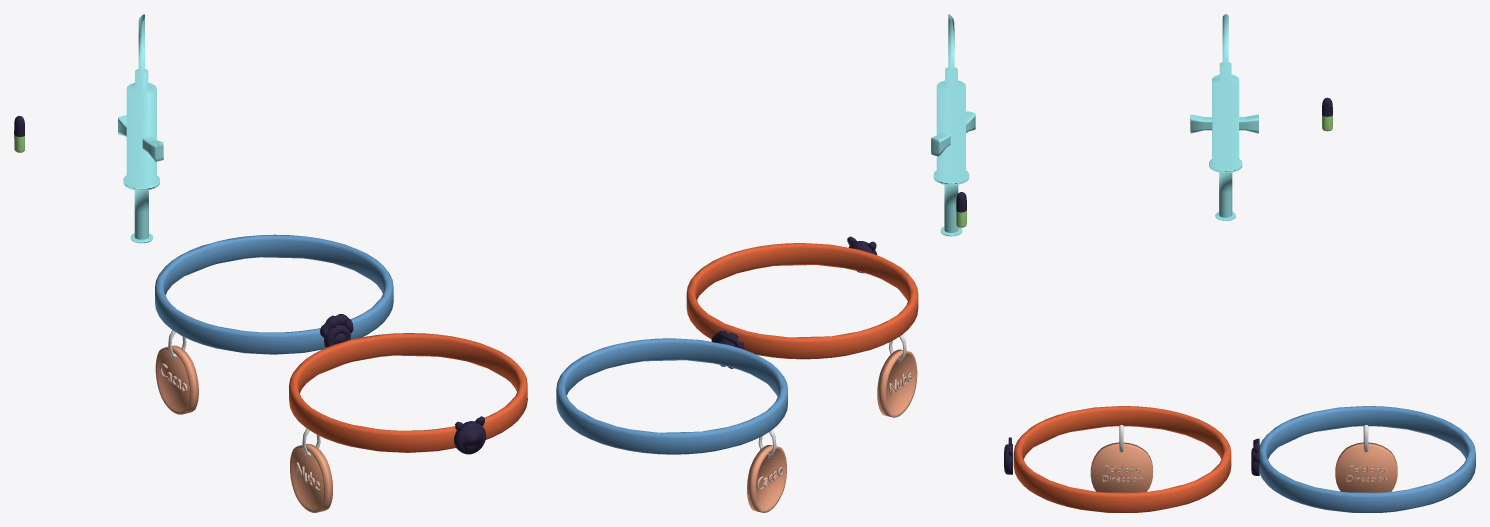
File: rastreo.glb
The picture shows the model from 3 angles, left to right: view 1: azimuth 30°, elevation 25°; view 2: azimuth 150°, elevation 25°; view 3: azimuth 270°, elevation 25°; orthographic projection. The views are drawn at different scales.
Parts seen in each view (by area): view 1: collar perro, collar gato, jeringa, placa cacao, placa nube, rastreador gato, rastreador perro; view 2: collar perro, collar gato, jeringa, placa nube, placa cacao; view 3: collar gato, collar perro, jeringa, placa cacao, placa nube.
Boxes of the visible parts, left/top/right/bottom form: collar perro: left=155, top=234, right=393, bottom=354; collar gato: left=289, top=333, right=527, bottom=452; jeringa: left=118, top=14, right=163, bottom=243; placa cacao: left=155, top=330, right=198, bottom=414; placa nube: left=290, top=428, right=332, bottom=512; rastreador gato: left=454, top=416, right=486, bottom=454; rastreador perro: left=320, top=314, right=353, bottom=347; collar perro: left=556, top=338, right=787, bottom=454; collar gato: left=686, top=243, right=918, bottom=359; jeringa: left=931, top=14, right=975, bottom=236; placa nube: left=877, top=335, right=917, bottom=417; placa cacao: left=747, top=430, right=786, bottom=512; collar gato: left=1013, top=406, right=1231, bottom=512; collar perro: left=1259, top=406, right=1475, bottom=512; jeringa: left=1190, top=14, right=1258, bottom=220; placa cacao: left=1335, top=425, right=1397, bottom=492; placa nube: left=1090, top=425, right=1153, bottom=492.
Size of the model in its own units: 1.8 by 2.15 by 2.1.
